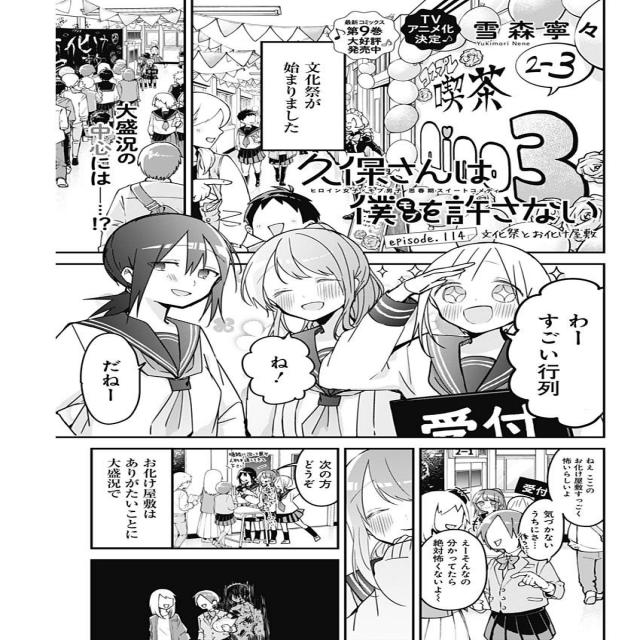Bubble: (506, 276, 609, 428), (260, 40, 347, 152), (88, 447, 175, 551), (81, 331, 142, 425), (420, 529, 487, 611), (240, 336, 317, 404), (520, 497, 565, 562), (293, 447, 339, 508)
